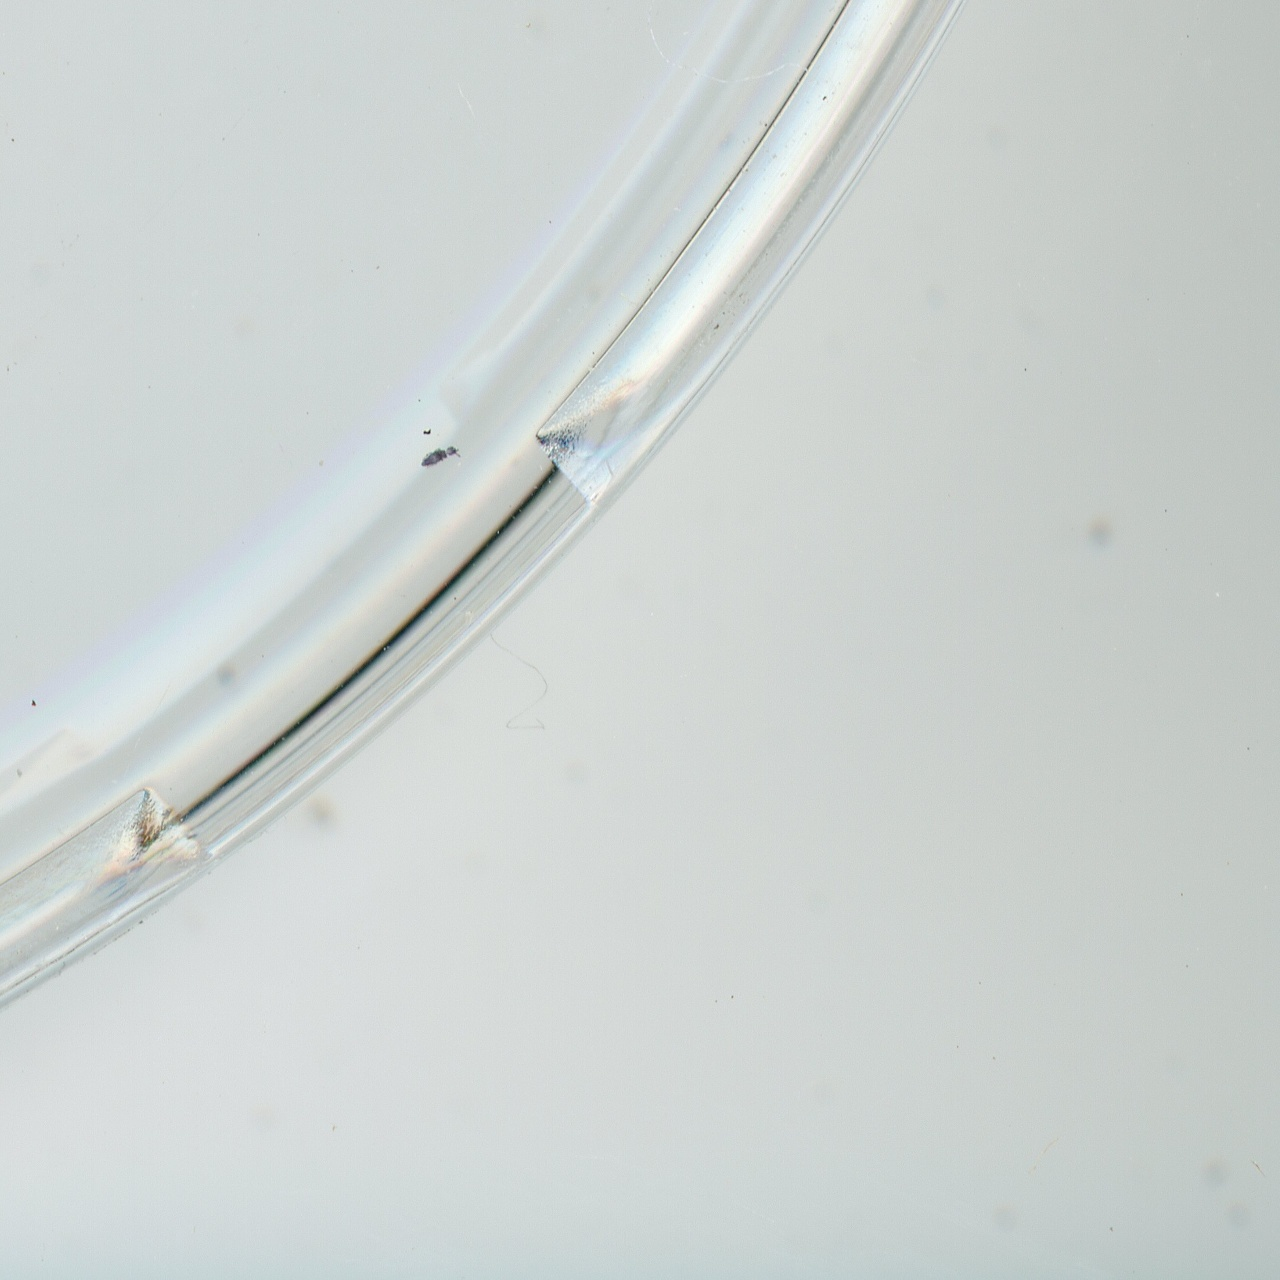arthropod: (416, 441, 463, 474)
